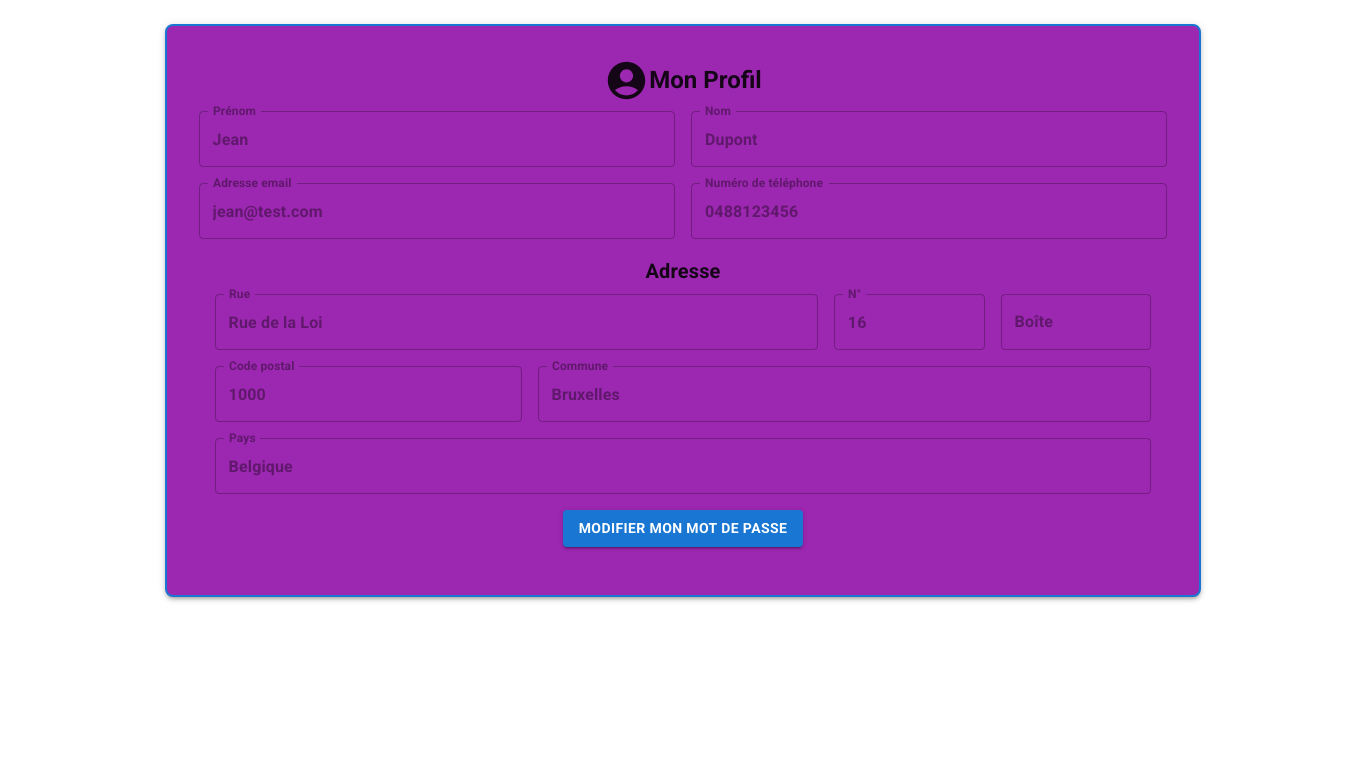
ProfilePage › displays errors if fields are invalid
The width and height of the screenshot is (1366, 768).
Expected: the field showing "Jean" is shown, top-left (199, 111), bottom-right (675, 167)
Click the button "Modifier mon mot de passe" at (683, 528), box top-left (563, 510), bottom-right (803, 546)
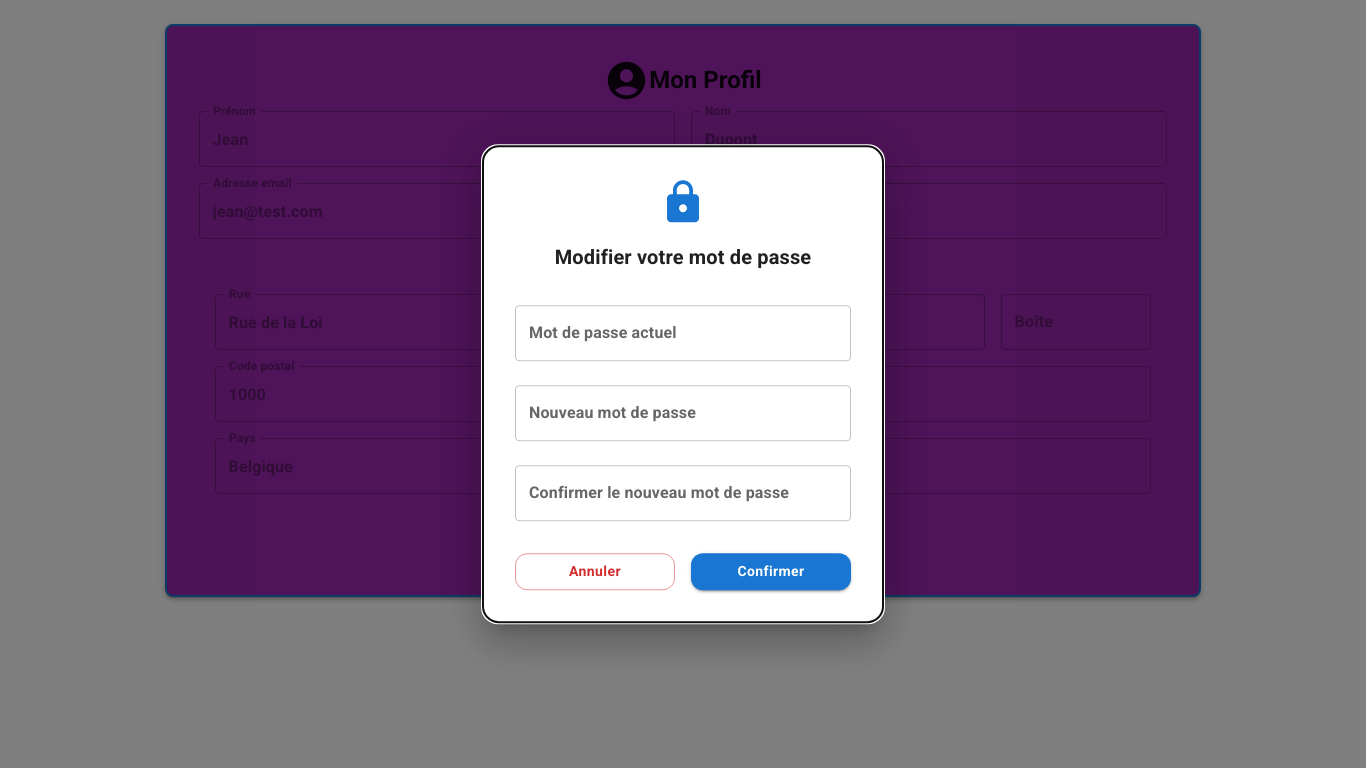
Click the button "Confirmer" at (771, 572), box top-left (691, 553), bottom-right (851, 590)
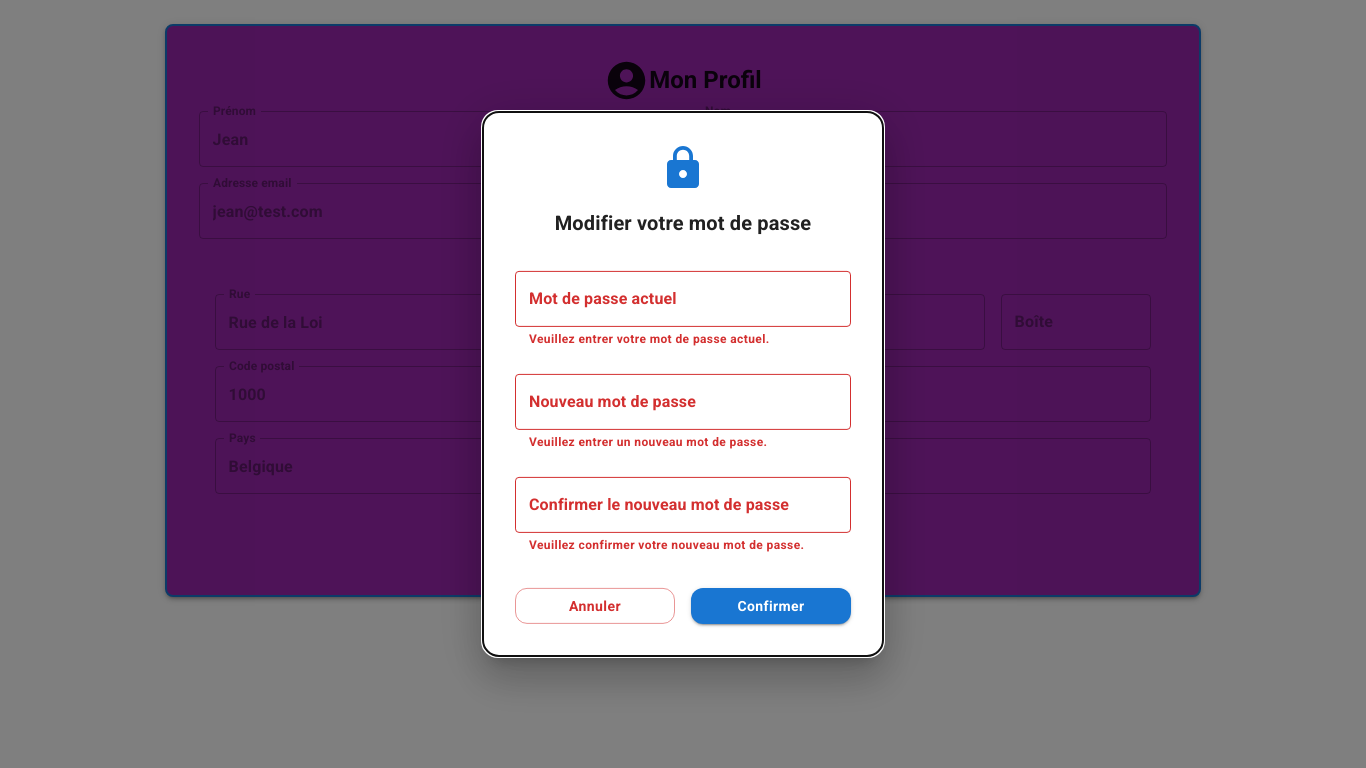
Result: the text "Veuillez entrer votre mot de passe actuel." is shown at top-left (529, 332), bottom-right (770, 346)
Result: the text "Veuillez entrer un nouveau mot de passe." is shown at top-left (529, 435), bottom-right (767, 449)
Result: the text "Veuillez confirmer votre nouveau mot de passe." is shown at top-left (529, 536), bottom-right (837, 556)
